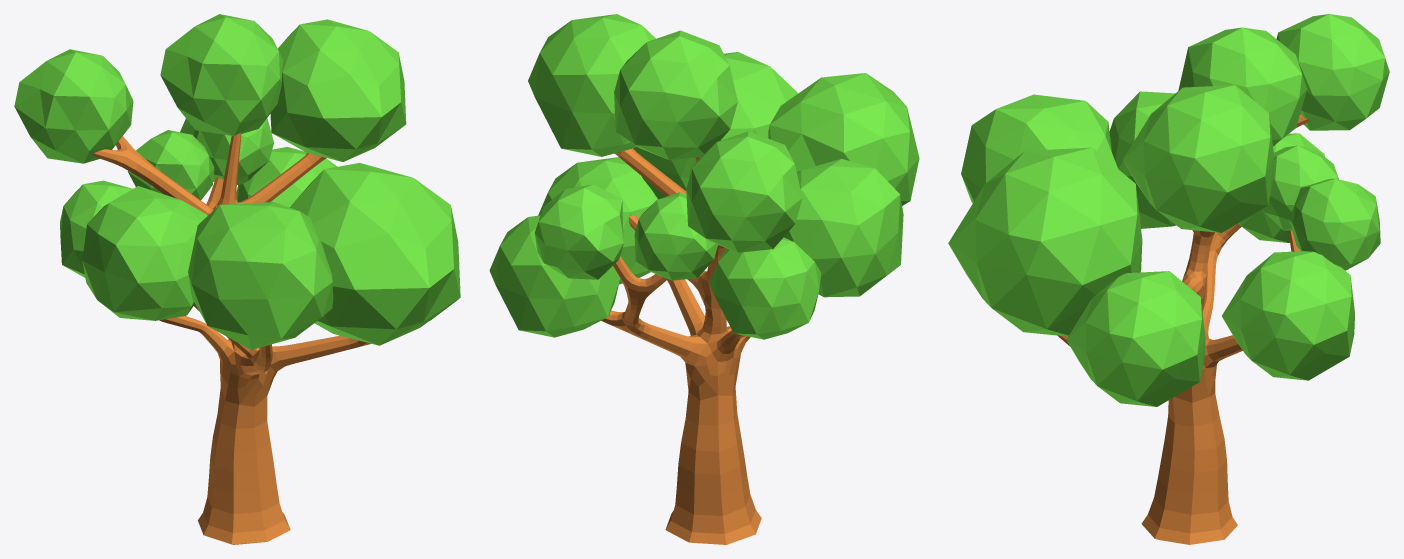
File: tree3.fbx
3 views of the same model, side by side, from view 1: azimuth 30°, elevation 25°; view 2: azimuth 150°, elevation 25°; view 3: azimuth 270°, elevation 25° (orthographic). The views are drawn at different scales.
Visible parts, largest first — view 1: Tree leaf, Tree trunk; view 2: Tree leaf, Tree trunk; view 3: Tree leaf, Tree trunk.
Boxes of the visible parts, x1,y1,x2,y2 form: Tree leaf: (14,14,460,349); Tree trunk: (91,93,371,544); Tree leaf: (489,14,919,339); Tree trunk: (572,129,761,544); Tree leaf: (948,14,1389,406); Tree trunk: (1057,114,1309,544).
Size of the model in its own units: 823 by 1129 by 895.
